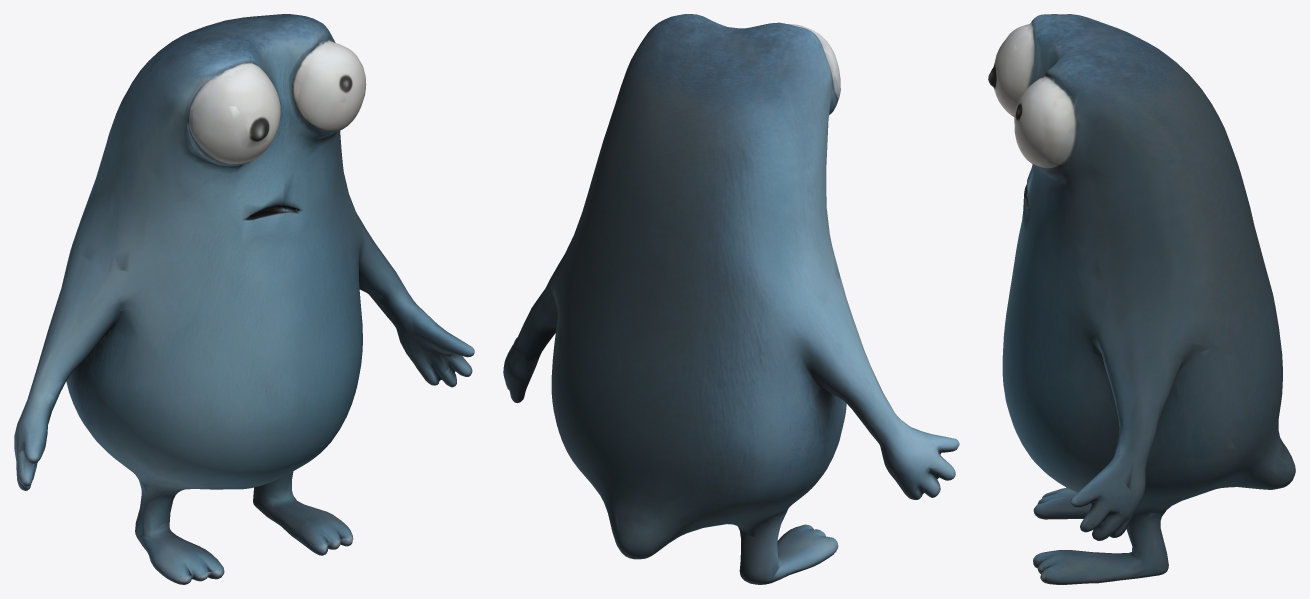
File: monster.glb
3 views of the same model, side by side, from view 1: azimuth 30°, elevation 25°; view 2: azimuth 150°, elevation 25°; view 3: azimuth 270°, elevation 25° (orthographic). The views are drawn at different scales.
Size of the model in its own units: 1.82 by 2 by 1.1.
1 material, 1 textured.
